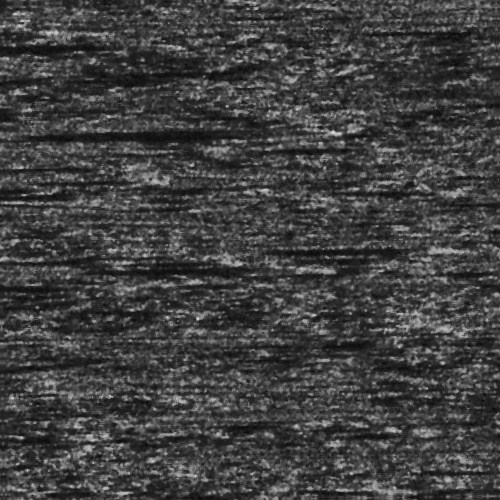object: (101, 37, 184, 46), (73, 280, 146, 287), (349, 145, 422, 150), (257, 266, 320, 271), (414, 249, 467, 254), (290, 128, 331, 131), (0, 327, 10, 336)
shadow: (0, 37, 142, 46), (83, 266, 288, 271), (0, 280, 109, 287), (306, 249, 440, 254), (261, 145, 386, 150), (278, 128, 310, 131)
